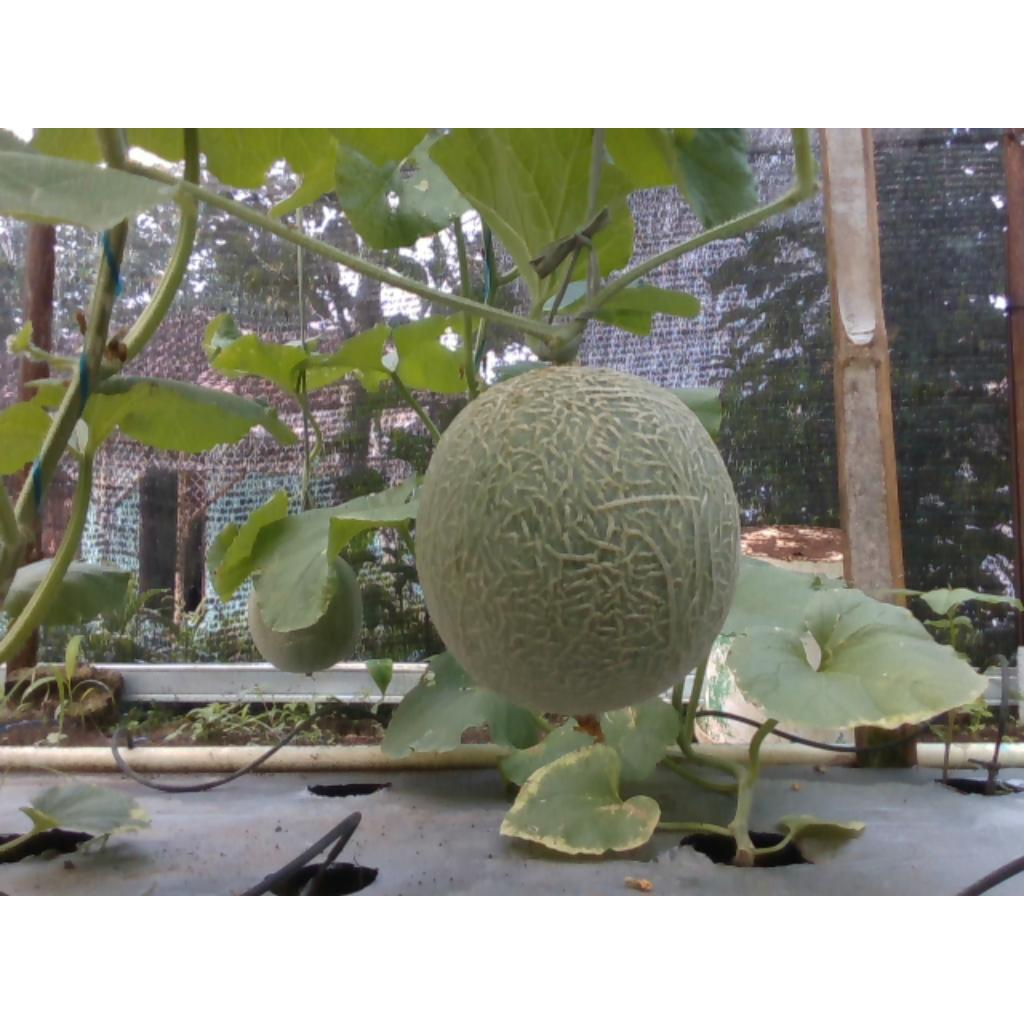melon: (418, 366, 741, 714)
